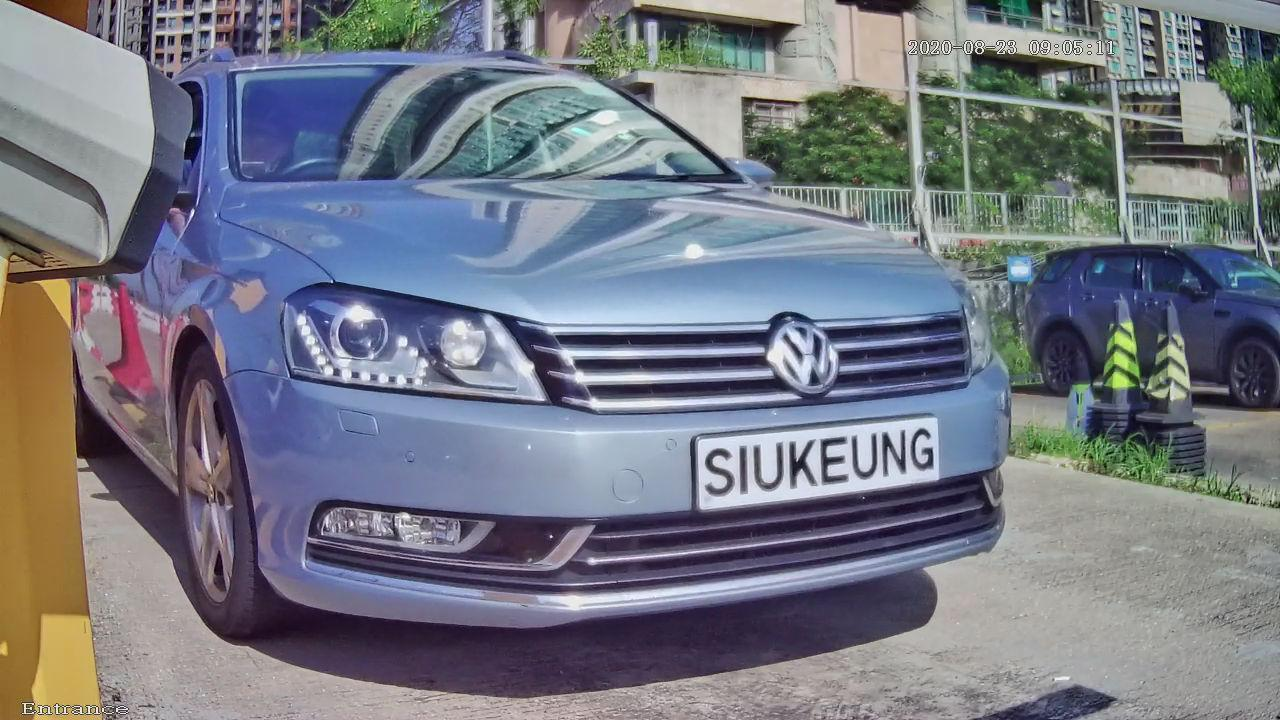Car: (12, 7, 1143, 692)
License Plate: (658, 376, 990, 548)
